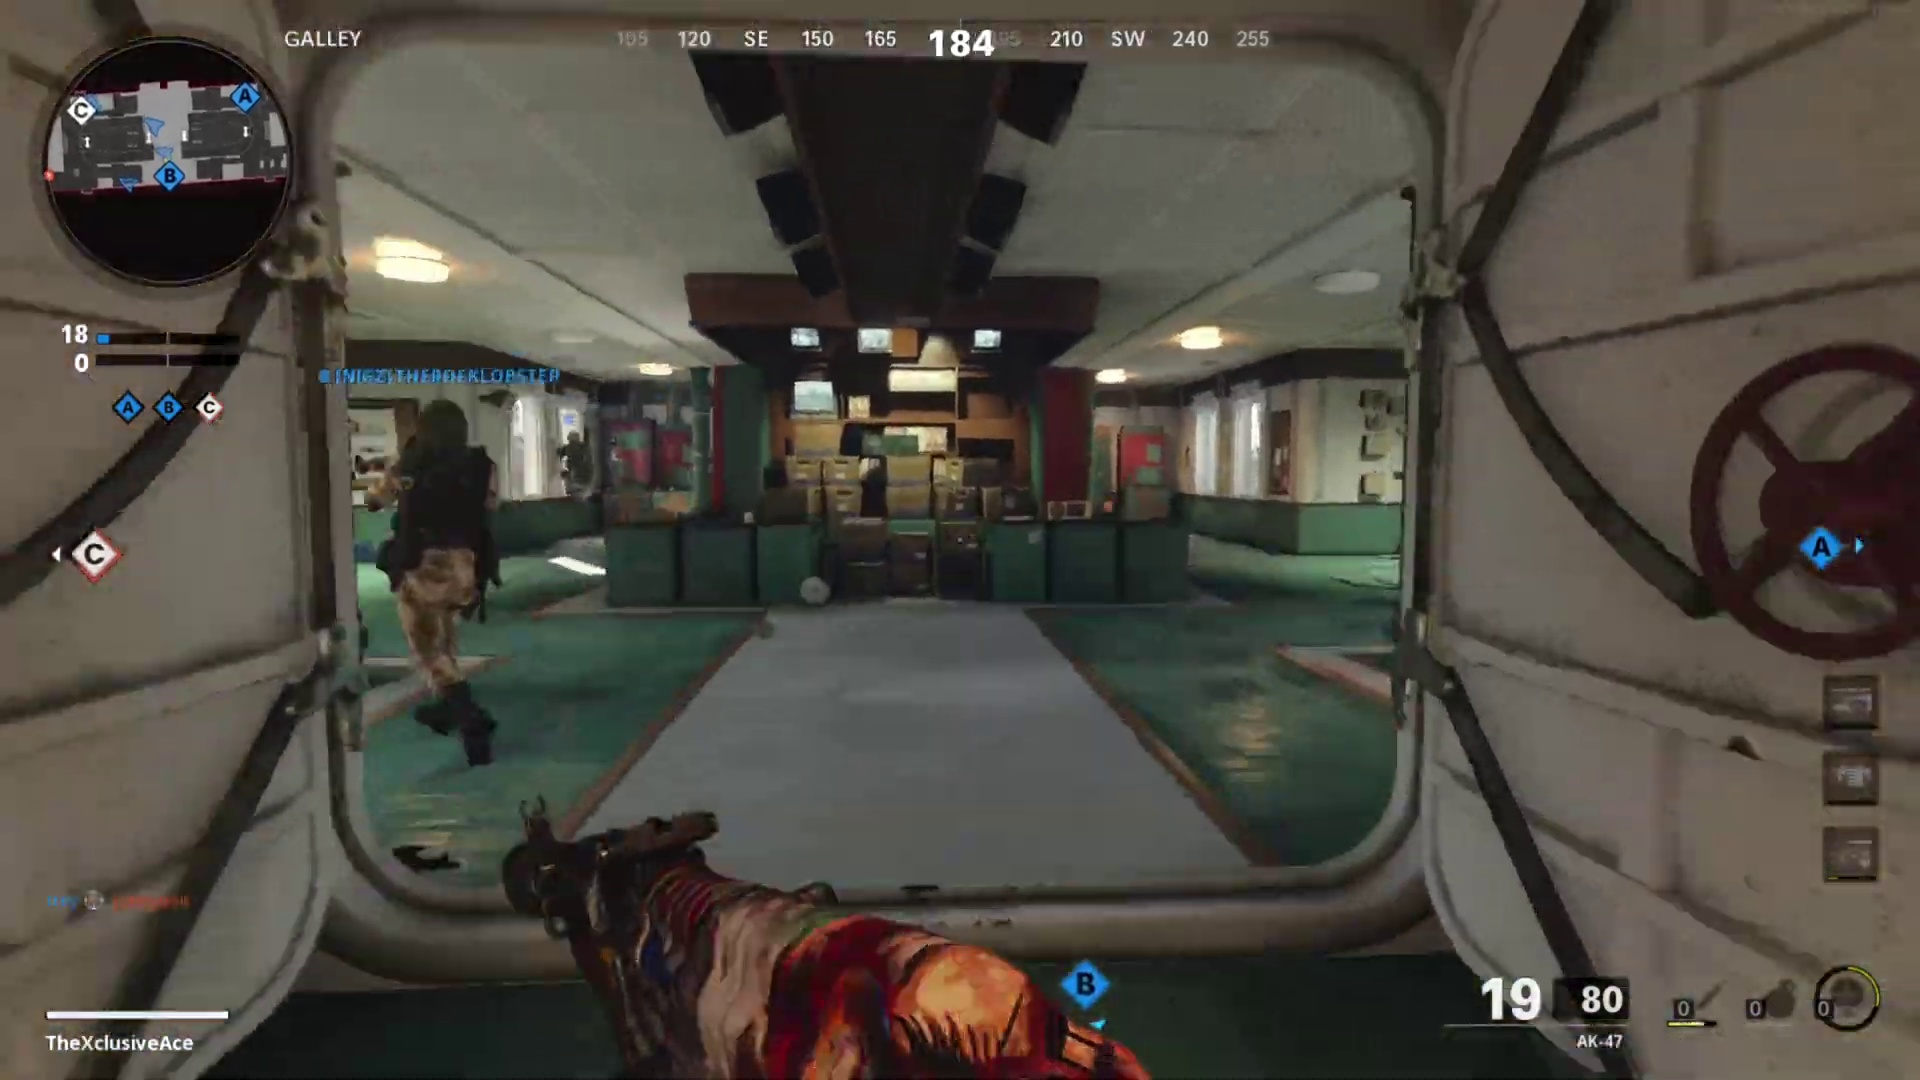person: (366, 365, 501, 794)
